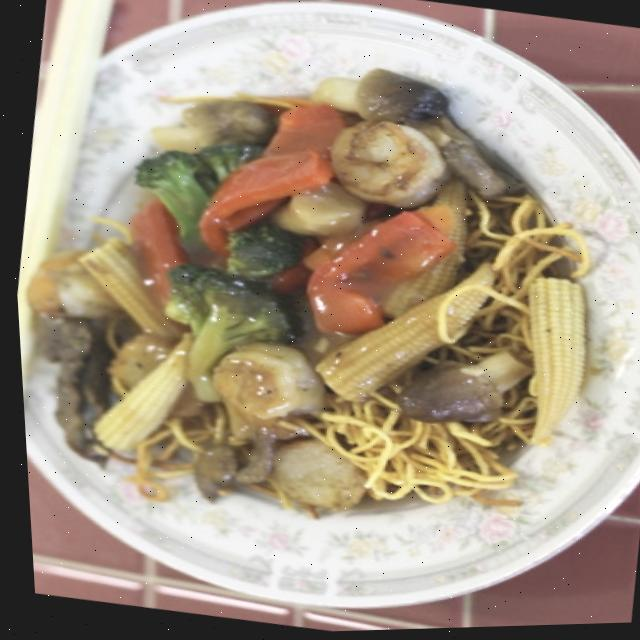面条主食: (1, 0, 640, 601)
